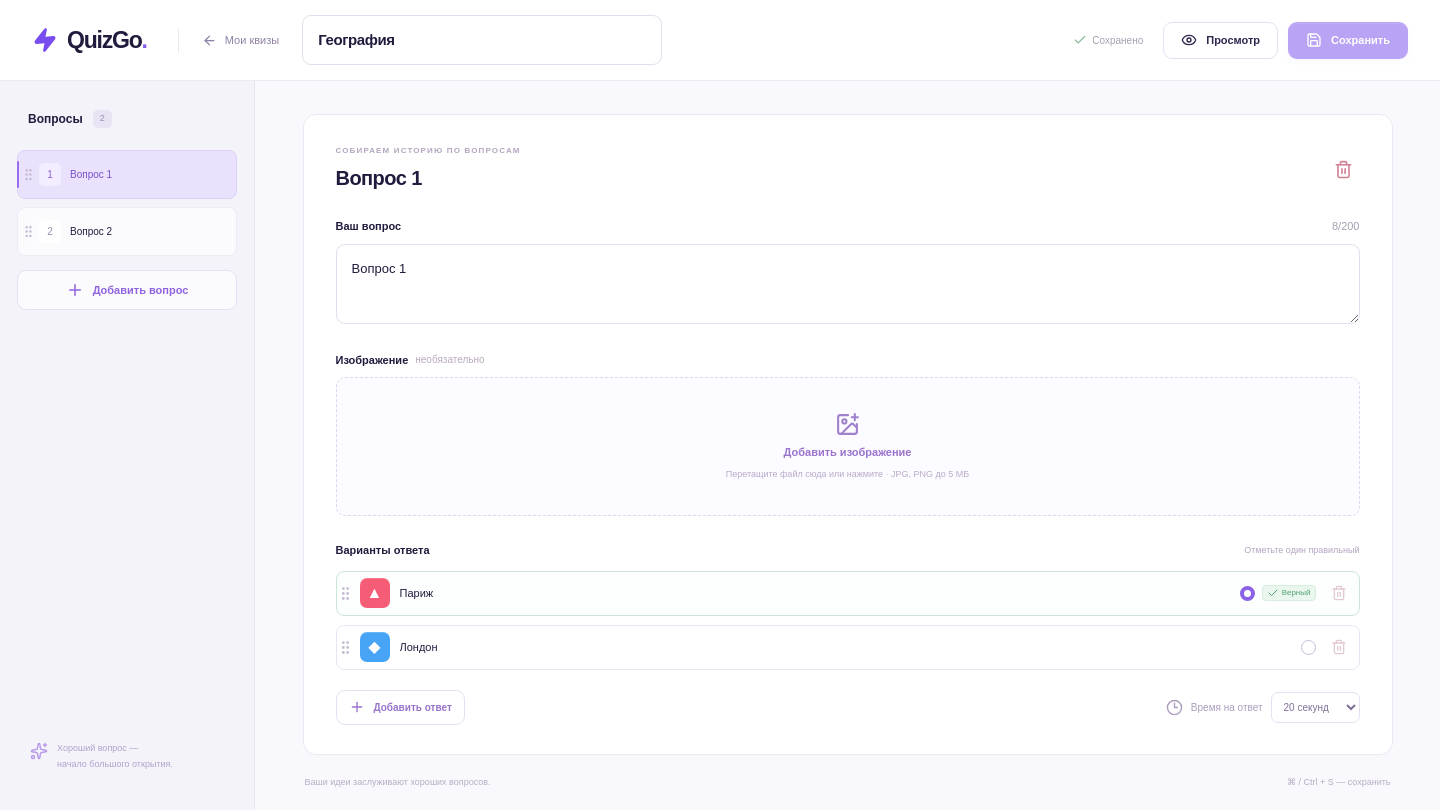
editor workflow › keeps the draft on a network failure
Type " 2" into the field named "Название квиза" at (482,40), box [302,15,662,65]
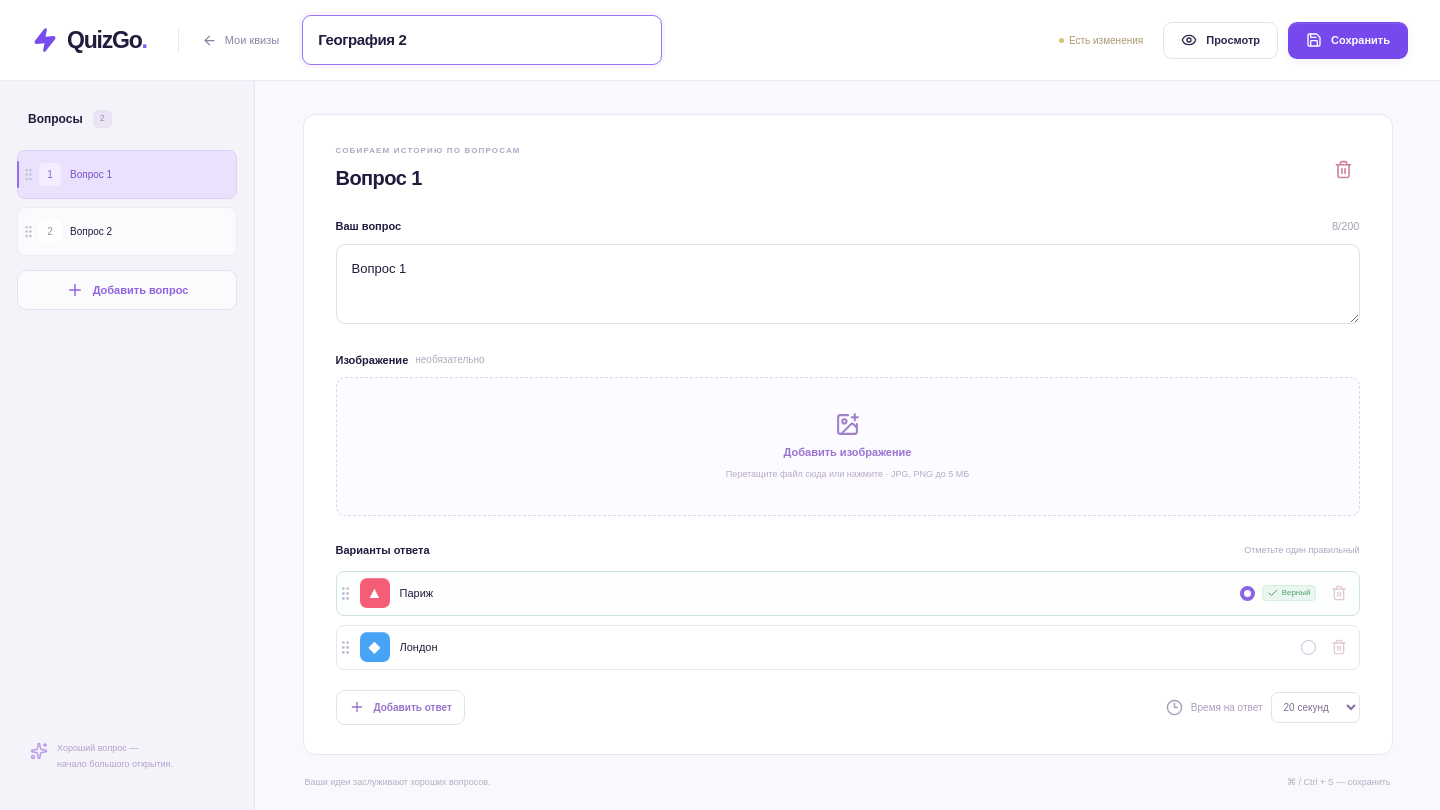
Click the button "Сохранить" at (1348,40), box [1288,22,1408,58]
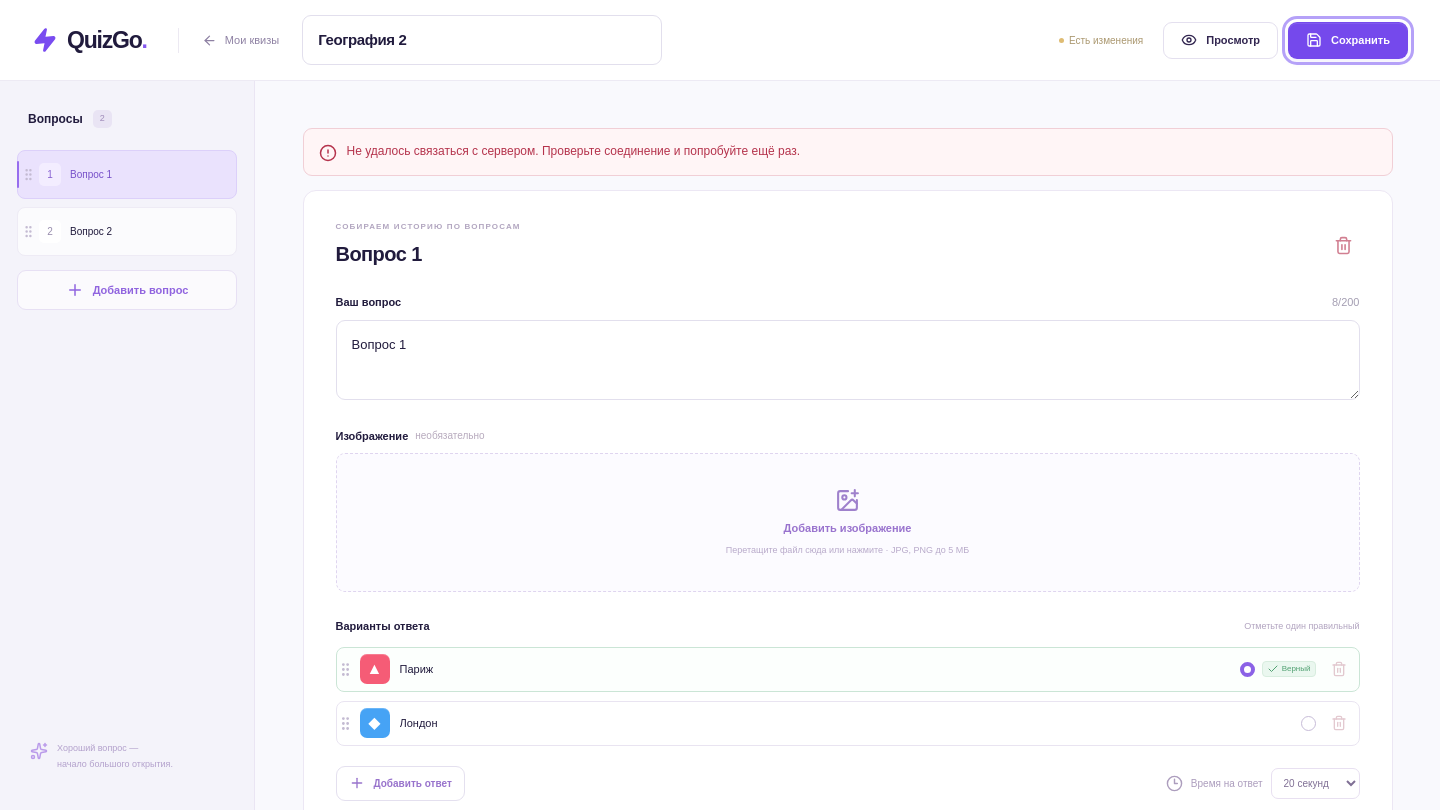
Now the field named "Название квиза" holds "География 2", box [302,15,662,65]
Now the message "Не удалось связаться с сервером. Проверьте соединение и попробуйте ещё раз." is shown, box [302,128,1392,176]
